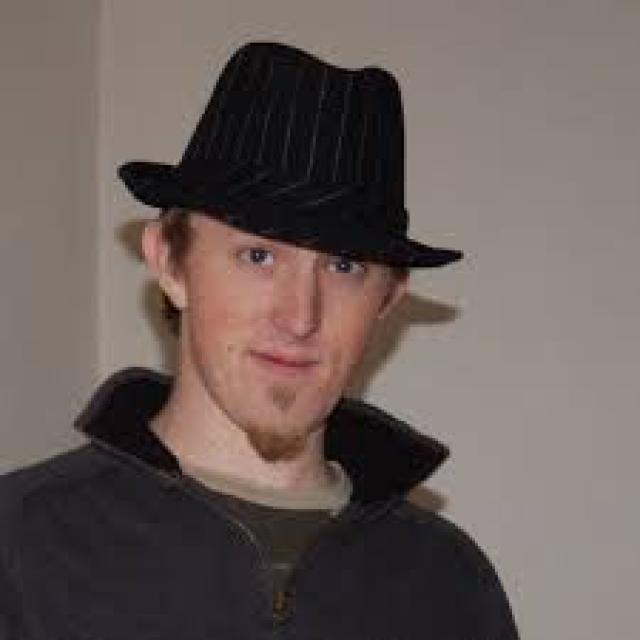cap: (102, 28, 475, 282)
